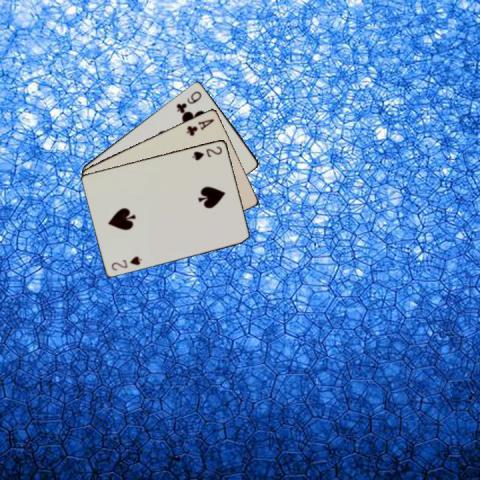2s: (189, 143, 223, 161), (109, 253, 142, 271)
9c: (173, 88, 203, 114)
Ac: (184, 115, 216, 137)
